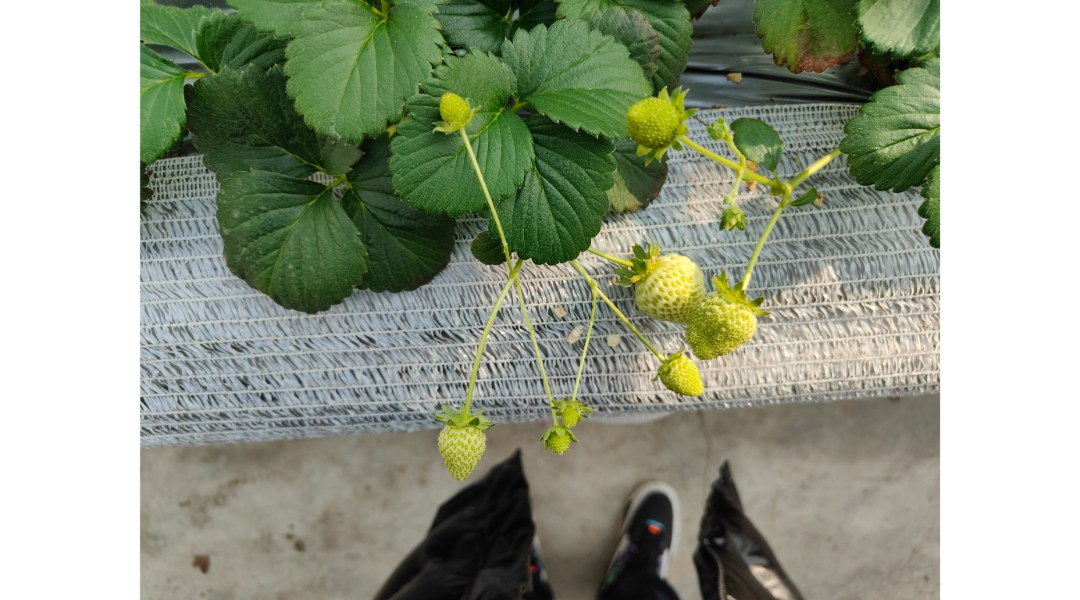berry: (679, 285, 766, 362), (623, 245, 707, 321), (622, 87, 698, 167), (432, 406, 487, 492), (422, 85, 482, 145), (655, 348, 710, 403), (556, 385, 589, 436), (544, 418, 581, 462)
strain: (572, 265, 660, 352), (464, 133, 510, 268), (459, 288, 503, 403), (679, 135, 770, 185), (520, 301, 556, 396), (744, 210, 780, 298), (566, 315, 594, 409), (791, 143, 846, 183)
